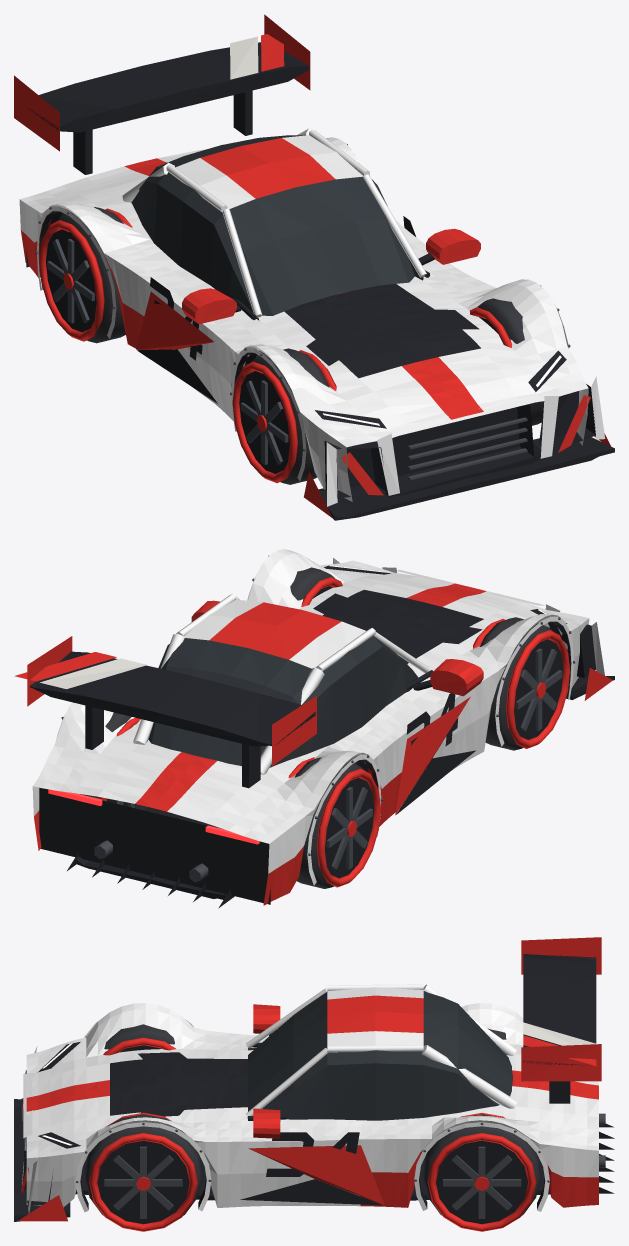
The model's file is drift.glb.
The picture shows the model from 3 angles, top to bottom: view 1: azimuth 30°, elevation 25°; view 2: azimuth 150°, elevation 25°; view 3: azimuth 270°, elevation 25°; orthographic projection. The views are drawn at different scales.
Visible parts, largest first — view 1: white:2, black:2, glass:2, red:2, black:0 (×3), metal:0 (×3), red:0 (×2), rubber:0 (×3), white:0, whiteAccent:2; view 2: white:2, black:2, red:2, glass:2, black:0 (×3), red:0 (×2), rubber:0 (×3), metal:0 (×3), white:0, whiteAccent:2, tail:0; view 3: white:2, glass:2, black:2, red:2, black:0 (×3), red:0 (×3), rubber:0 (×3), metal:0 (×2), white:0, whiteAccent:2.
Part boxes in pixels (x1,y1,x2,y2): white:2: (19,135,605,506); black:2: (23,42,614,520); glass:2: (131,135,423,320); red:2: (14,14,610,518); black:0 (×3): (46,90,434,473); metal:0 (×3): (35,144,570,480); red:0 (×2): (39,208,336,483); rubber:0 (×3): (56,207,544,484); white:0: (122,128,426,317); whiteAccent:2: (230,36,258,79); white:2: (32,549,604,885); black:2: (30,565,614,908); red:2: (14,583,612,905); glass:2: (148,636,417,767); black:0 (×3): (85,639,563,878); red:0 (×2): (288,619,570,887); rubber:0 (×3): (290,567,553,888); metal:0 (×3): (61,555,575,882); white:0: (133,594,430,774); whiteAccent:2: (40,658,146,689); tail:0: (48,789,259,844); white:2: (22,987,598,1213); glass:2: (248,991,512,1120); black:2: (14,954,614,1221); red:2: (17,937,601,1221); black:0 (×3): (97,1031,570,1224); red:0 (×3): (89,1037,536,1231); rubber:0 (×3): (85,1024,540,1215); metal:0 (×2): (104,1146,521,1218); white:0: (246,984,516,1116); whiteAccent:2: (523,1022,595,1045).
Bounding box in the file's own units: 2.76 × 1.98 × 5.75.
